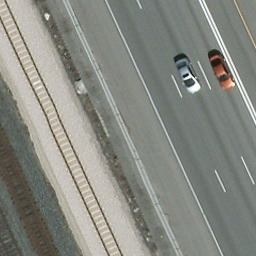car: (173, 57, 202, 97), (207, 54, 236, 92)
